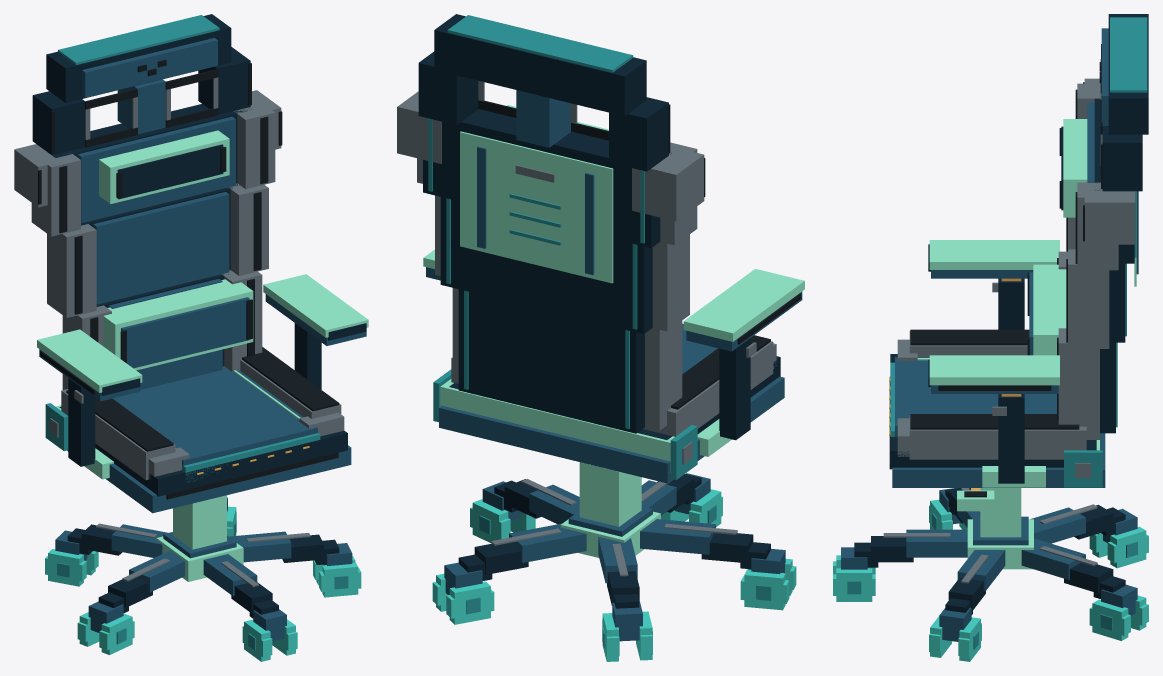
Rendered from computer_chair.obj.
3 renders of one model, left to right at view 1: azimuth 30°, elevation 25°; view 2: azimuth 150°, elevation 25°; view 3: azimuth 270°, elevation 25°, orthographic. The views are drawn at different scales.
Parts seen in each view (by area): view 1: part_100, part_064, part_140, part_108, part_063, part_139, part_126, part_101, part_157, part_165, part_062, part_124 (+49 smaller); view 2: part_091, part_146, part_099, part_124, part_107, part_062, part_082, part_157, part_125, part_115, part_117, part_093 (+34 smaller); view 3: part_070, part_165, part_064, part_157, part_096, part_104, part_125, part_119, part_139, part_062, part_121, part_162 (+39 smaller).
Boxes of the visible parts, bbox=[...] form: part_100: bbox=[93, 192, 229, 304]; part_064: bbox=[112, 366, 317, 469]; part_140: bbox=[121, 297, 249, 368]; part_108: bbox=[77, 116, 235, 223]; part_063: bbox=[59, 407, 347, 496]; part_139: bbox=[103, 279, 253, 370]; part_126: bbox=[82, 38, 217, 97]; part_101: bbox=[47, 224, 96, 317]; part_157: bbox=[37, 329, 142, 392]; part_165: bbox=[263, 274, 368, 337]; part_062: bbox=[67, 445, 351, 513]; part_124: bbox=[46, 14, 231, 102]; part_091: bbox=[458, 289, 644, 433]; part_146: bbox=[460, 131, 613, 283]; part_099: bbox=[440, 197, 652, 334]; part_124: bbox=[434, 14, 646, 116]; part_107: bbox=[423, 109, 671, 247]; part_062: bbox=[439, 376, 784, 483]; part_082: bbox=[440, 379, 674, 472]; part_157: bbox=[683, 269, 804, 341]; part_125: bbox=[447, 15, 633, 72]; part_115: bbox=[632, 149, 704, 221]; part_117: bbox=[609, 97, 668, 171]; part_093: bbox=[645, 321, 682, 430]; part_070: bbox=[909, 415, 1086, 459]; part_165: bbox=[929, 355, 1059, 385]; part_064: bbox=[895, 357, 1056, 436]; part_157: bbox=[929, 240, 1059, 269]; part_096: bbox=[1058, 328, 1099, 439]; part_104: bbox=[1068, 249, 1109, 348]; part_125: bbox=[1110, 17, 1147, 92]; part_119: bbox=[1084, 183, 1135, 244]; part_139: bbox=[1033, 264, 1066, 355]; part_062: bbox=[892, 433, 1105, 487]; part_121: bbox=[1102, 126, 1142, 191]; part_162: bbox=[998, 394, 1024, 483].
Bounding box in the file's own units: 0.7794 × 1.4 × 0.7412.
